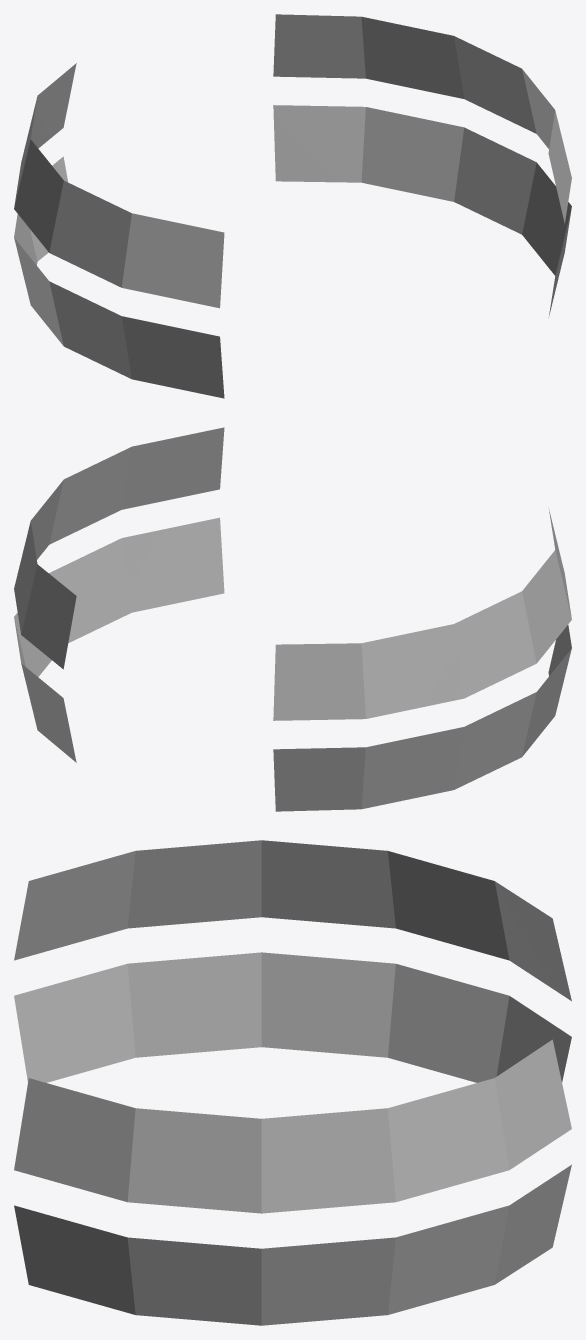
The model's file is SpyDrone_L.dae.
The picture shows the model from 3 angles, top to bottom: view 1: azimuth 30°, elevation 25°; view 2: azimuth 150°, elevation 25°; view 3: azimuth 270°, elevation 25°; orthographic projection. The views are drawn at different scales.
Parts seen in each view (by area): view 1: SpyDrone_L; view 2: SpyDrone_L; view 3: SpyDrone_L.
Boxes of the visible parts, <box> form: SpyDrone_L: <box>14,14,571,398</box>; SpyDrone_L: <box>14,427,571,811</box>; SpyDrone_L: <box>14,840,571,1325</box>.
Bounding box in the file's own units: 4.92 × 3.92 × 1.61.
